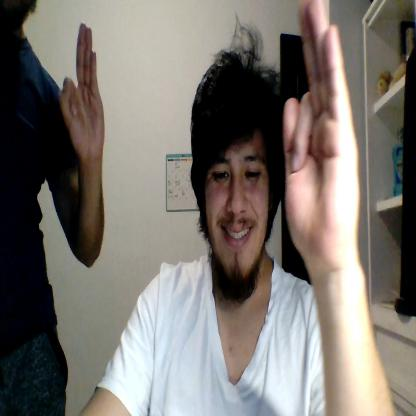F: (284, 0, 360, 262), (61, 22, 106, 162)
